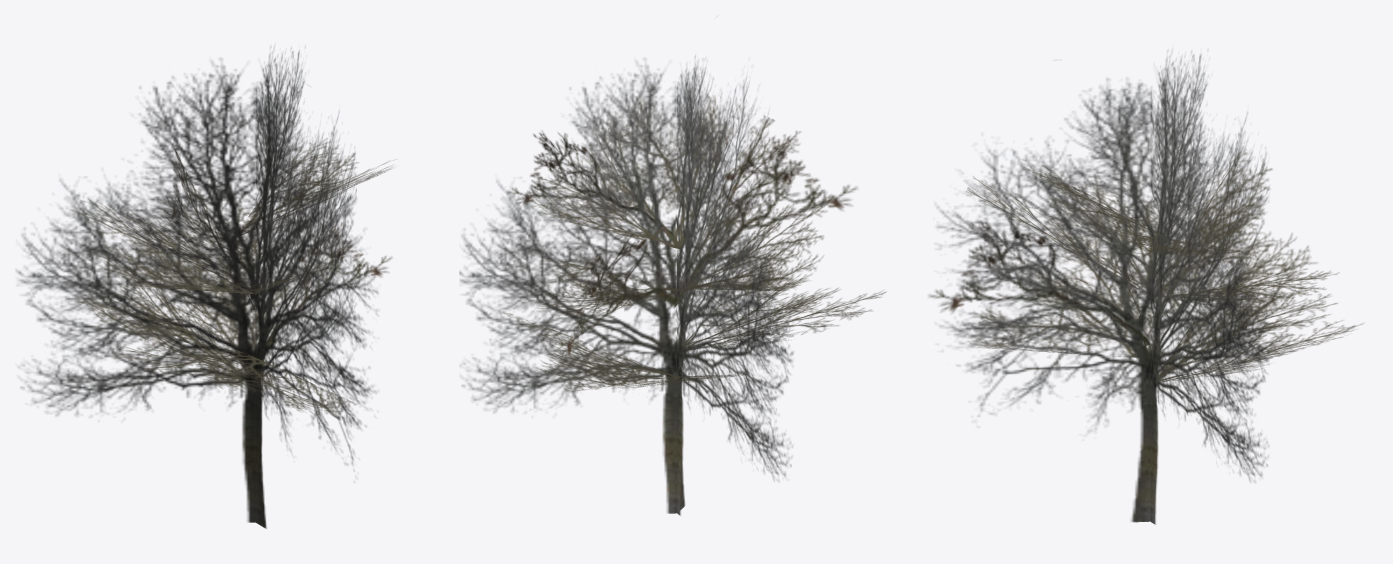
Rendered from wtree_h.glb.
3 views of the same model, side by side, from view 1: azimuth 30°, elevation 25°; view 2: azimuth 150°, elevation 25°; view 3: azimuth 270°, elevation 25° (orthographic).
Visible parts, largest first — view 1: Winter_Trees_Planes.006, Winter_Trees_Branches.017; view 2: Winter_Trees_Planes.006, Winter_Trees_Branches.017; view 3: Winter_Trees_Planes.006, Winter_Trees_Branches.017.
Boxes of the visible parts, box(x1,y1,x2,y2) form: Winter_Trees_Planes.006: box(16, 47, 377, 528); Winter_Trees_Branches.017: box(71, 138, 395, 416); Winter_Trees_Planes.006: box(459, 55, 793, 515); Winter_Trees_Branches.017: box(498, 91, 885, 391); Winter_Trees_Planes.006: box(937, 51, 1269, 524); Winter_Trees_Branches.017: box(929, 146, 1363, 382).
Size of the model in its own units: 11.91 by 15.29 by 13.57.
2 materials, 2 textured.
